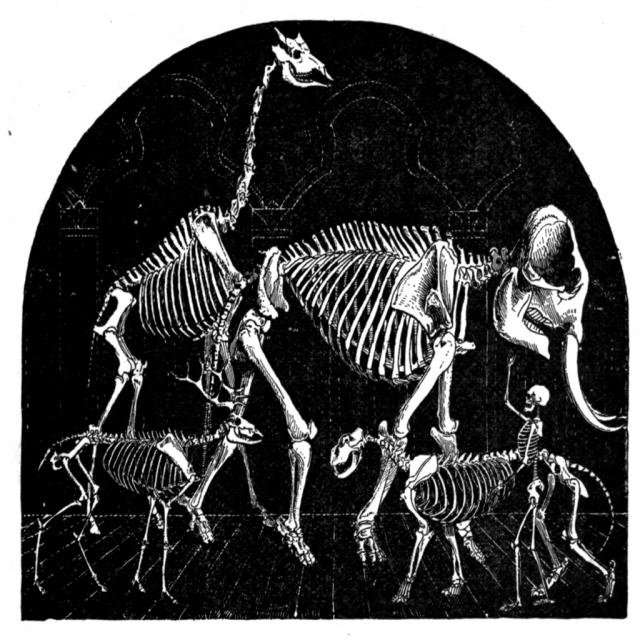elephant: (212, 205, 630, 567)
